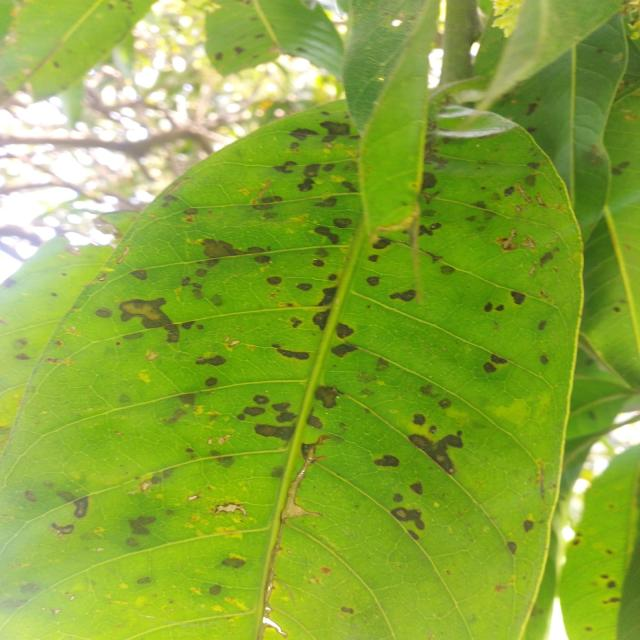Anthracnose: (249, 391, 343, 457), (100, 298, 204, 343), (290, 120, 346, 202), (309, 283, 363, 360), (406, 427, 477, 463)
